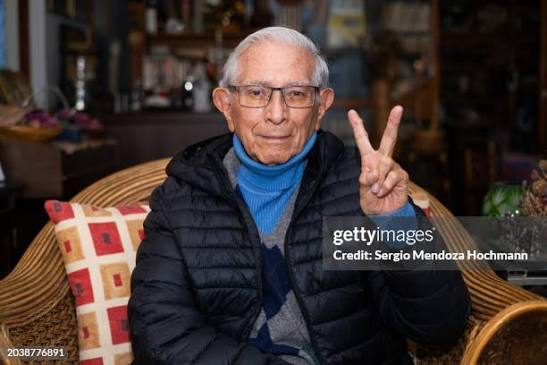peace_sign: (344, 106, 416, 217)
